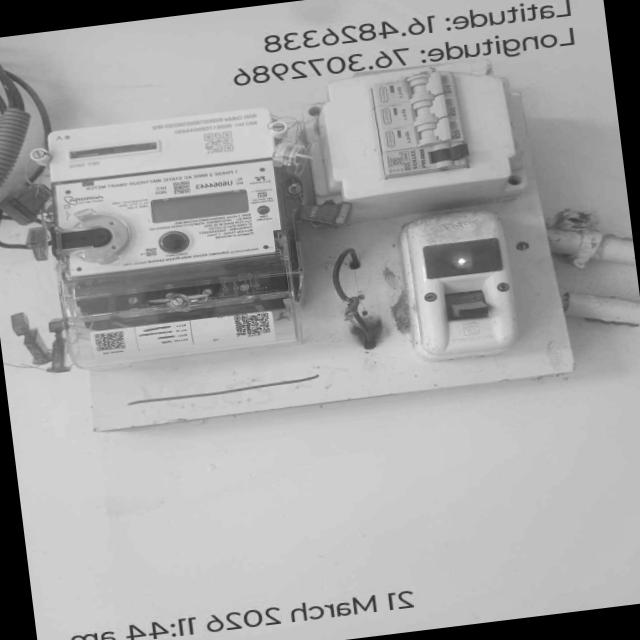meter: (32, 105, 285, 282)
